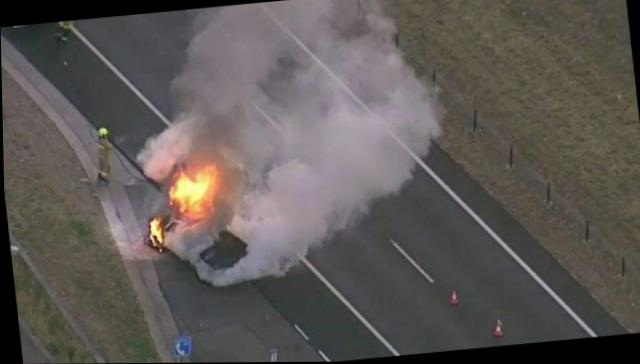fire: (133, 156, 225, 255)
